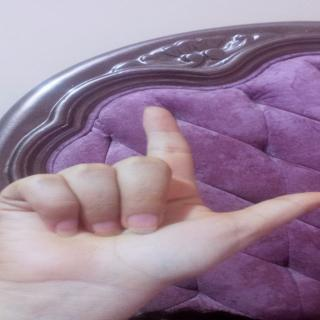LAAM: (5, 104, 320, 271)
